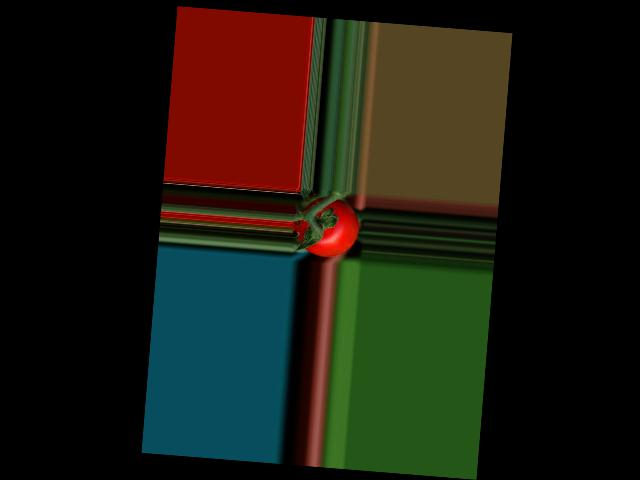tomato: (291, 194, 360, 259)
